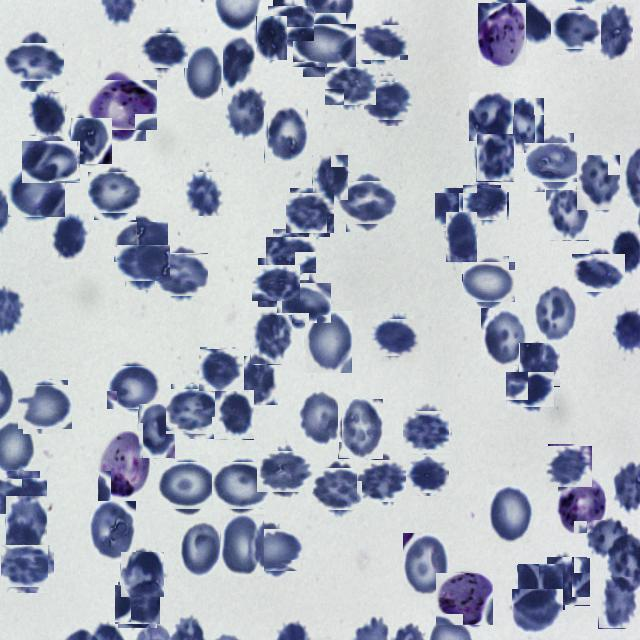red blood cell: (160, 458, 216, 514), (304, 311, 352, 374), (89, 499, 136, 562), (403, 533, 449, 597), (298, 18, 352, 72), (532, 285, 580, 344), (216, 458, 268, 512), (11, 168, 64, 220), (220, 514, 264, 576), (481, 308, 528, 366), (338, 399, 383, 459), (487, 485, 533, 543), (342, 176, 393, 228), (169, 386, 219, 437), (27, 136, 76, 188), (249, 524, 299, 574), (314, 464, 364, 514), (529, 138, 579, 188), (20, 382, 70, 432), (9, 36, 59, 86), (264, 107, 308, 163), (576, 155, 620, 211), (260, 448, 310, 497), (110, 363, 158, 412), (180, 521, 222, 577), (594, 3, 634, 61), (4, 542, 52, 590), (280, 278, 328, 326), (158, 250, 206, 298), (91, 169, 139, 217), (359, 457, 407, 505), (117, 218, 165, 266), (512, 589, 563, 634), (545, 190, 589, 241), (503, 98, 544, 152), (465, 259, 512, 306), (184, 46, 223, 102), (226, 88, 268, 140), (546, 557, 590, 606), (469, 92, 513, 141), (575, 250, 621, 296), (404, 408, 450, 454), (518, 564, 564, 610), (328, 61, 373, 108), (300, 392, 342, 442), (250, 315, 292, 365), (5, 496, 47, 546), (598, 577, 638, 629), (138, 404, 175, 459), (121, 241, 166, 286), (120, 552, 164, 598), (214, 390, 254, 440), (373, 315, 418, 359), (368, 79, 412, 123), (288, 190, 332, 234), (554, 8, 598, 52), (548, 445, 592, 489), (199, 348, 243, 392), (269, 233, 313, 276), (0, 475, 43, 519), (71, 118, 112, 164), (240, 356, 278, 405), (476, 134, 514, 182), (52, 213, 89, 262), (508, 368, 550, 411), (519, 343, 560, 387), (221, 34, 254, 88), (143, 30, 185, 72), (116, 584, 158, 626), (362, 21, 404, 63), (255, 262, 297, 304), (184, 172, 224, 216), (587, 520, 632, 558), (270, 3, 311, 44), (27, 92, 65, 136), (312, 155, 348, 201), (407, 454, 448, 494), (466, 183, 506, 223), (446, 212, 477, 262), (436, 190, 474, 228), (256, 16, 287, 61)
trophozoite: (90, 74, 152, 136), (98, 430, 150, 500), (478, 3, 526, 66), (437, 572, 492, 626), (558, 478, 606, 534)
